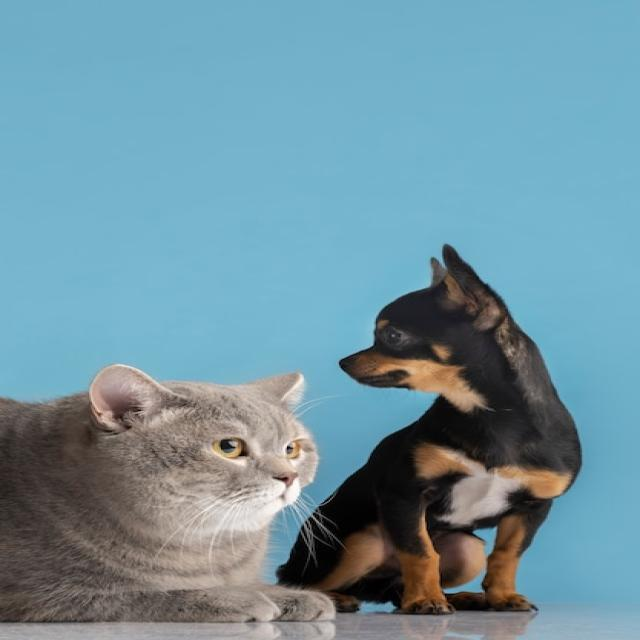Dog: (280, 244, 583, 615)
